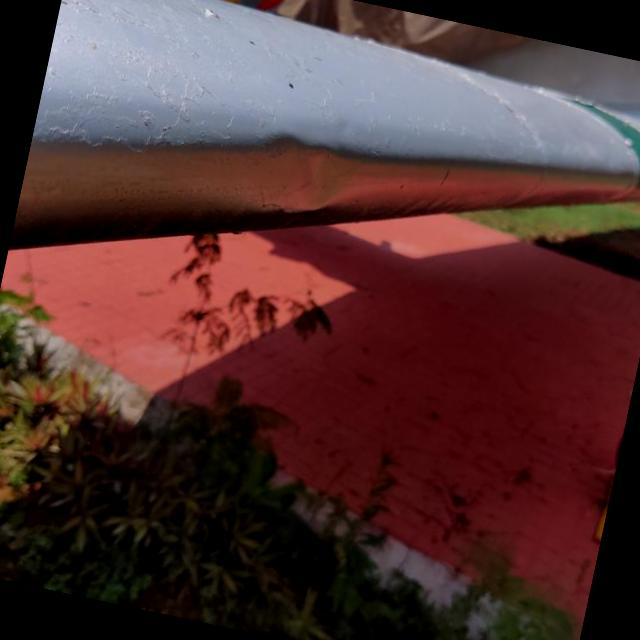dent: (232, 132, 364, 252)
